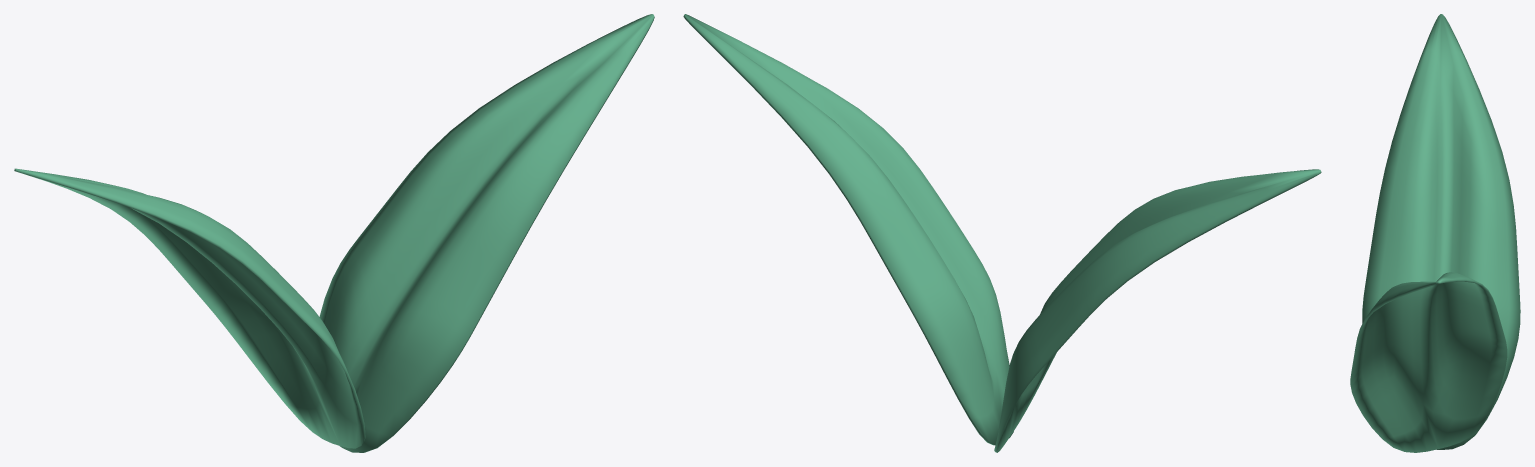
File: Beanstalk_#01fixed.fbx
The picture shows the model from 3 angles, left to right: view 1: azimuth 30°, elevation 25°; view 2: azimuth 150°, elevation 25°; view 3: azimuth 270°, elevation 25°; orthographic projection. The views are drawn at different scales.
Visible parts, largest first — view 1: LEAFE, LEAFE.001; view 2: LEAFE, LEAFE.001; view 3: LEAFE.001, LEAFE.
Part boxes in pixels (x1,y1,x2,y2): LEAFE: (319,14,654,452); LEAFE.001: (14,168,365,448); LEAFE: (683,14,1013,445); LEAFE.001: (994,169,1321,452); LEAFE.001: (1362,14,1520,449); LEAFE: (1350,272,1507,452).
Bounding box in the file's own units: 293 × 154 × 78.4.
